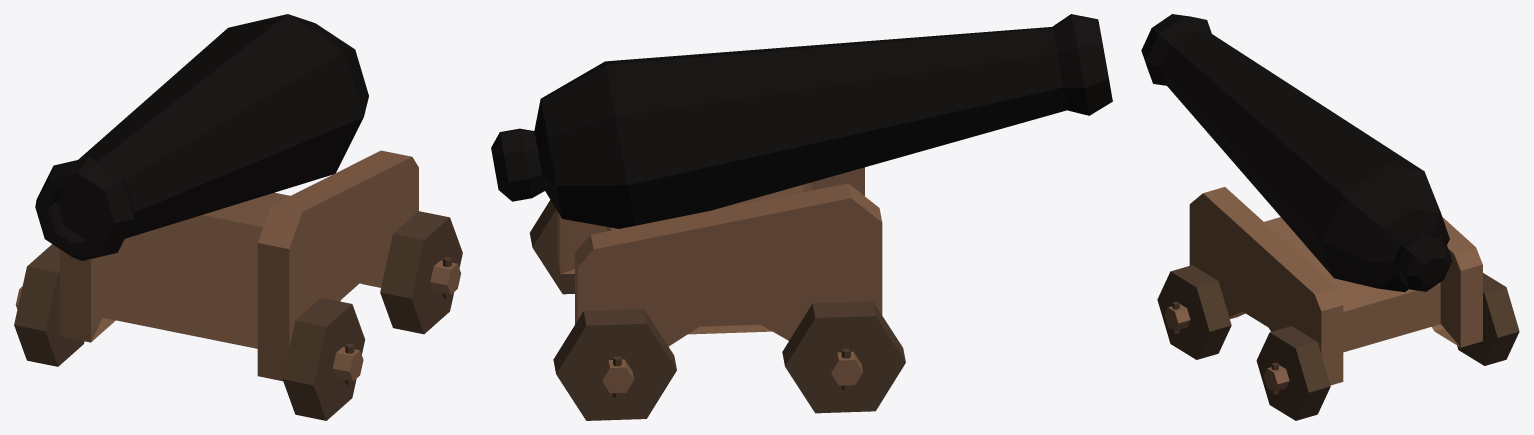
Rendered from Canon.fbx.
3 renders of one model, left to right at view 1: azimuth 30°, elevation 25°; view 2: azimuth 150°, elevation 25°; view 3: azimuth 270°, elevation 25°, orthographic. The views are drawn at different scales.
Visible parts, largest first — view 1: Canon; view 2: Canon; view 3: Canon.
Boxes of the visible parts, x1=… form: Canon: x1=14, y1=14, x2=462, y2=420; Canon: x1=491, y1=14, x2=1112, y2=420; Canon: x1=1141, y1=14, x2=1519, y2=420.
Size of the model in its own units: 83.84 by 50.14 by 71.25.
